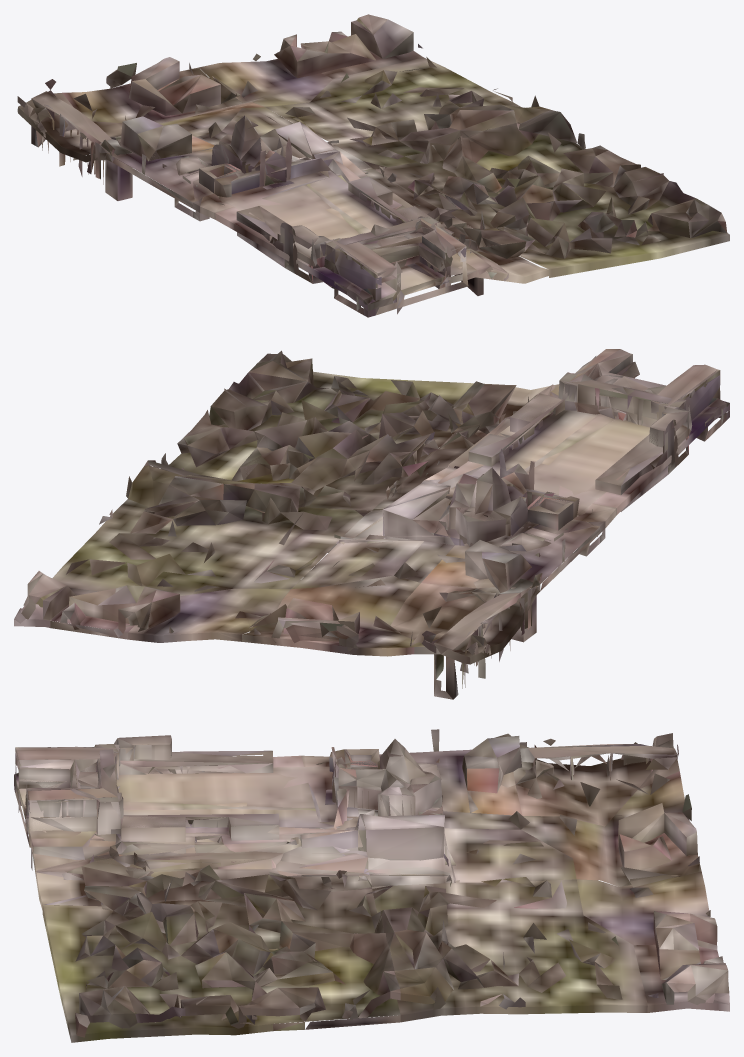
The picture shows the model from 3 angles, top to bottom: view 1: azimuth 30°, elevation 25°; view 2: azimuth 150°, elevation 25°; view 3: azimuth 270°, elevation 25°; orthographic projection. The views are drawn at different scales.
Visible parts, largest first — view 1: Mesh_0; view 2: Mesh_0; view 3: Mesh_0.
Boxes of the visible parts, bbox=[...] form: Mesh_0: bbox=[17, 14, 729, 317]; Mesh_0: bbox=[14, 349, 729, 699]; Mesh_0: bbox=[14, 729, 729, 1042].
Size of the model in its own units: 537 by 119 by 659.
1 material, 1 textured.
